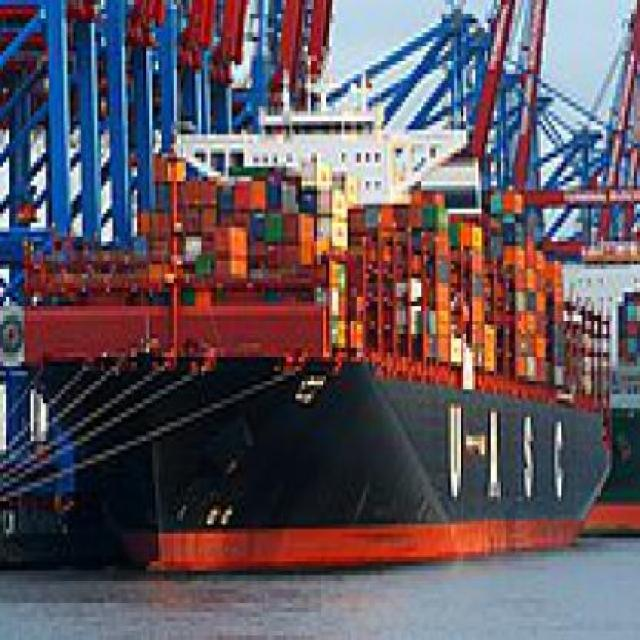container: (14, 43, 617, 590)
